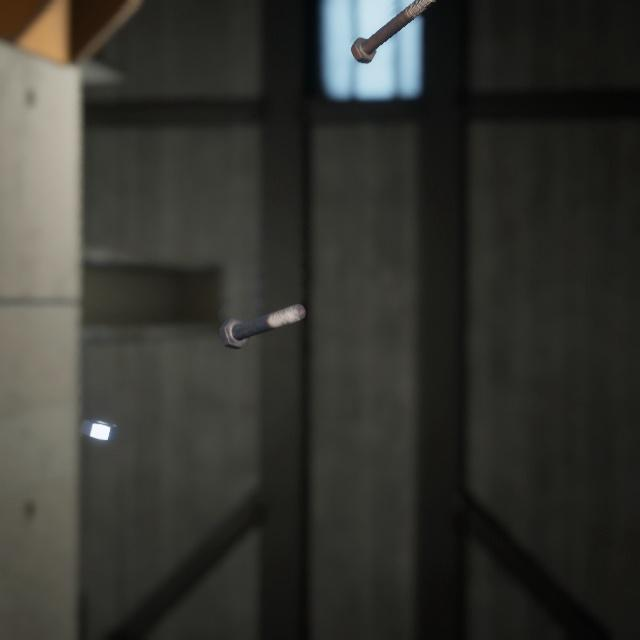bolt: (214, 280, 310, 335), (346, 0, 432, 61)
nut: (76, 394, 123, 425)
